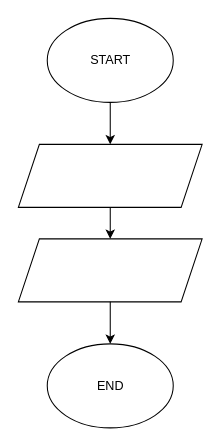
This 220x446 diagram has some shape labels left out. Here are the shapes that lost their labels. From the top down, the centre of each, then its label:
point 109,175: INPUT "Hello World!"
point 109,270: PRINT OUTPUT "Hello World!"
